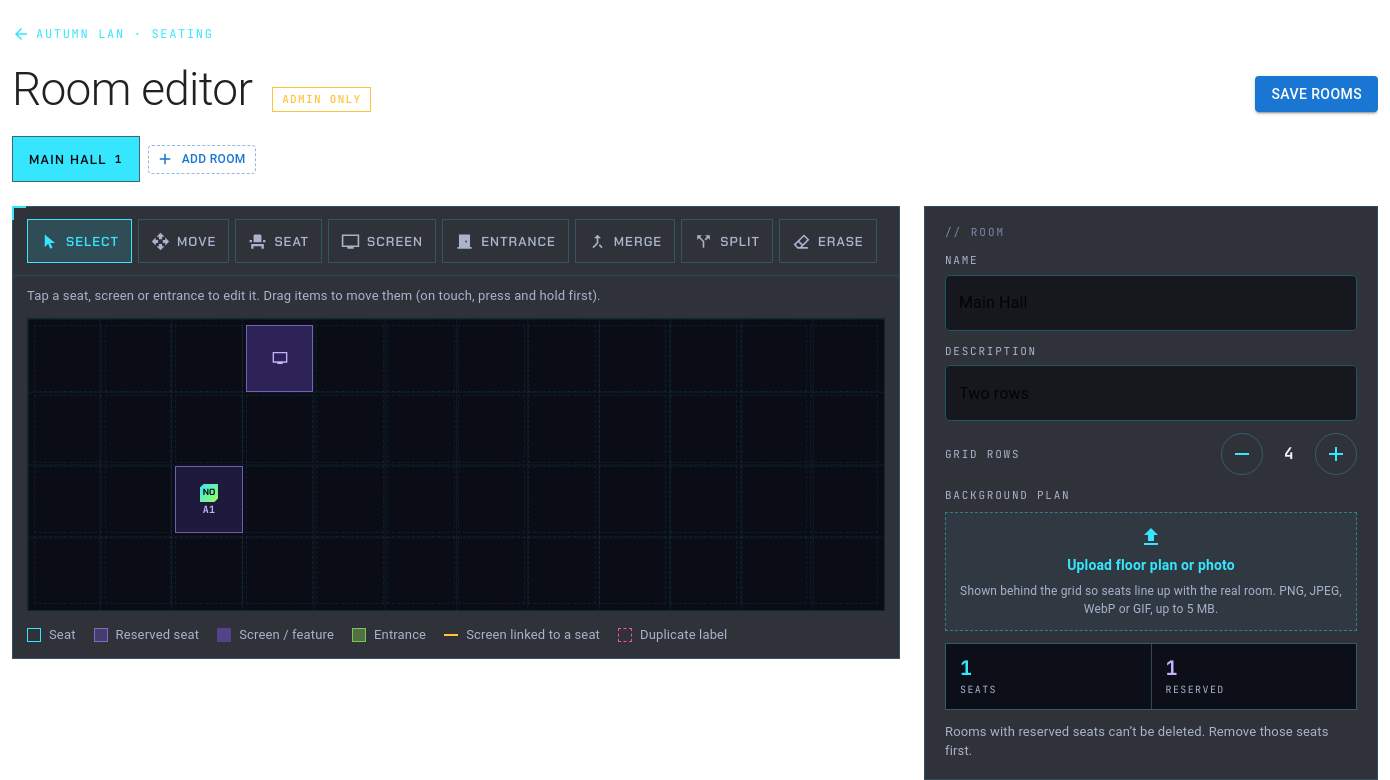
Test: RoomEditor › drops auto-labelled seats with the keyboard and saves the layout
Switch tool with the shortcut, move right and down, drop a seat.
Step 1. Press d in the cell named "Empty square, column 1, row 1", box top-left (34, 324), bottom-right (102, 392)
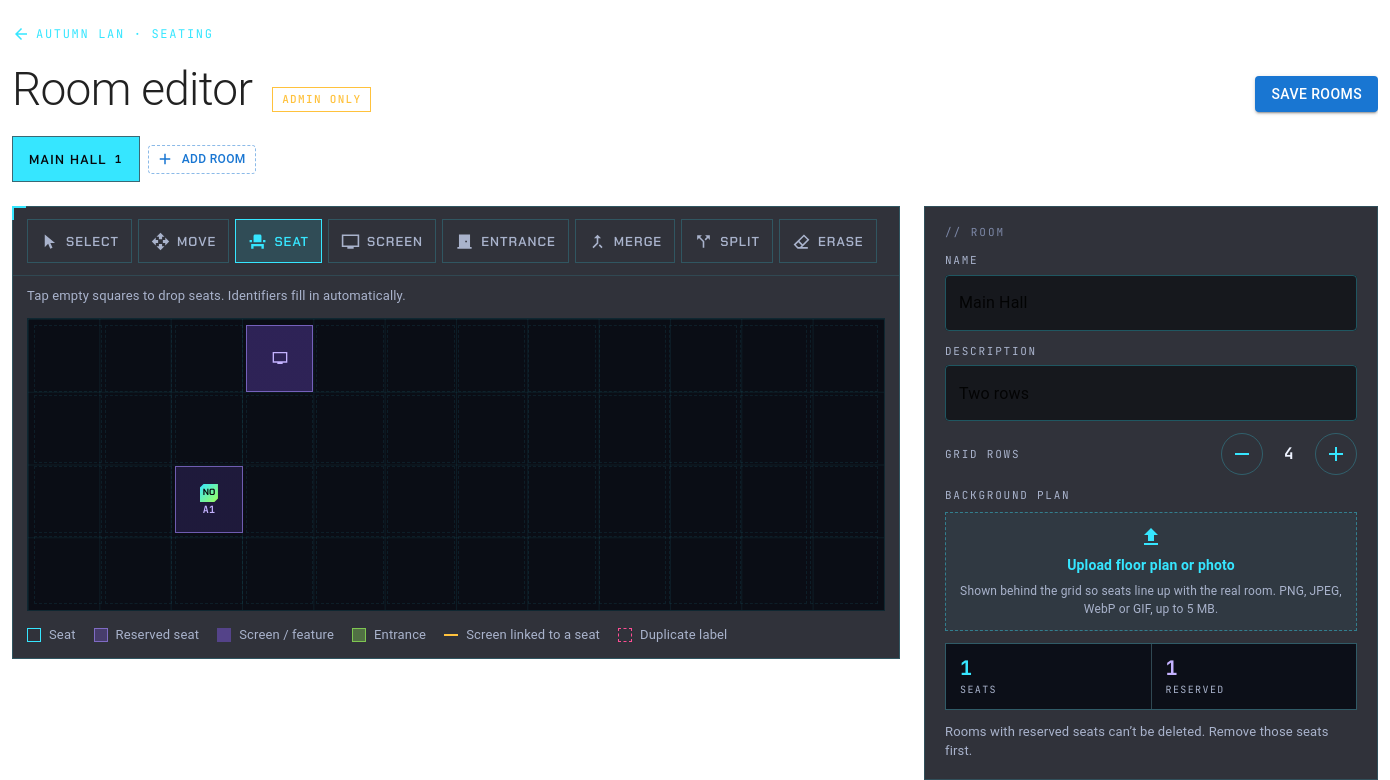
Expected: the button "Seat" is pressed, top-left (235, 219), bottom-right (322, 263)
Step 2. Press ArrowDown in the cell named "Empty square, column 1, row 1", box top-left (34, 324), bottom-right (102, 392)
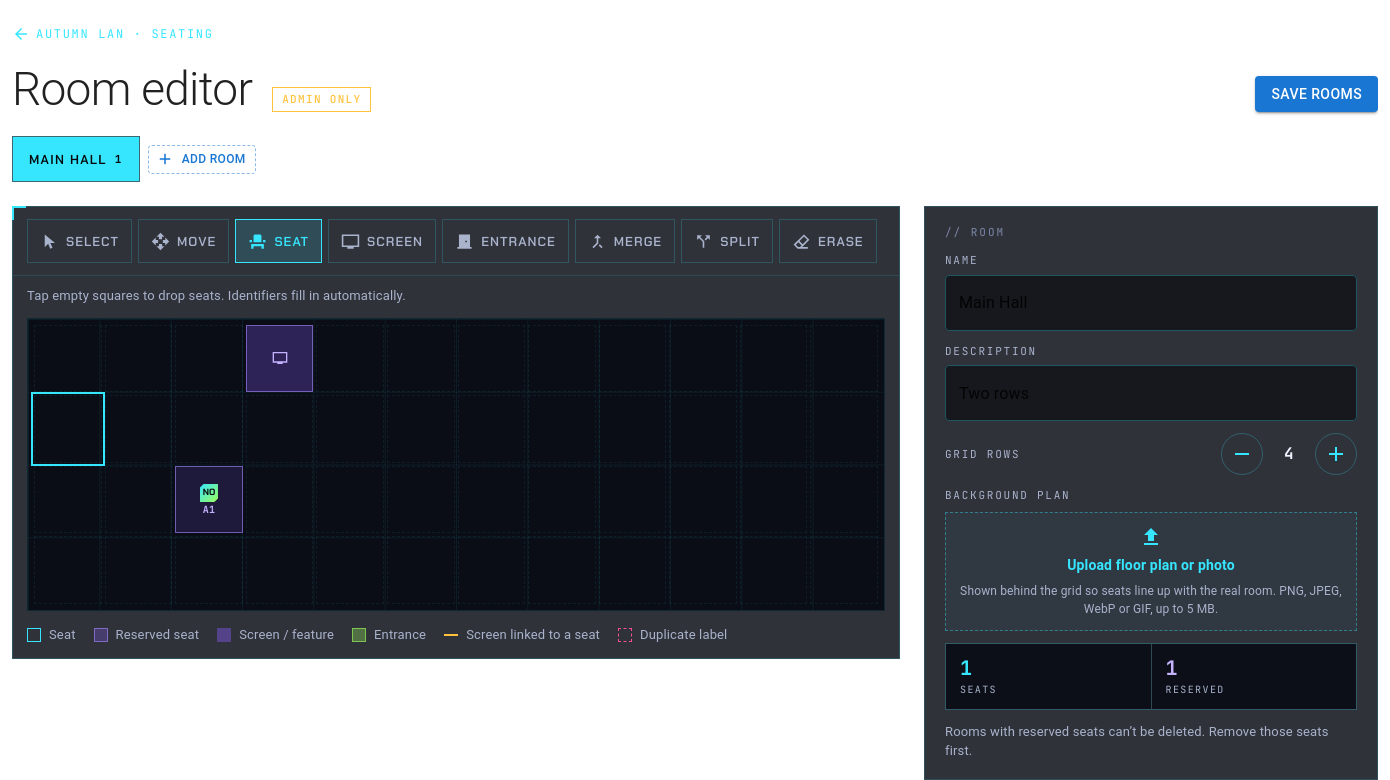
Step 3. Press Enter in the cell named "Empty square, column 1, row 2", box top-left (34, 395), bottom-right (102, 463)
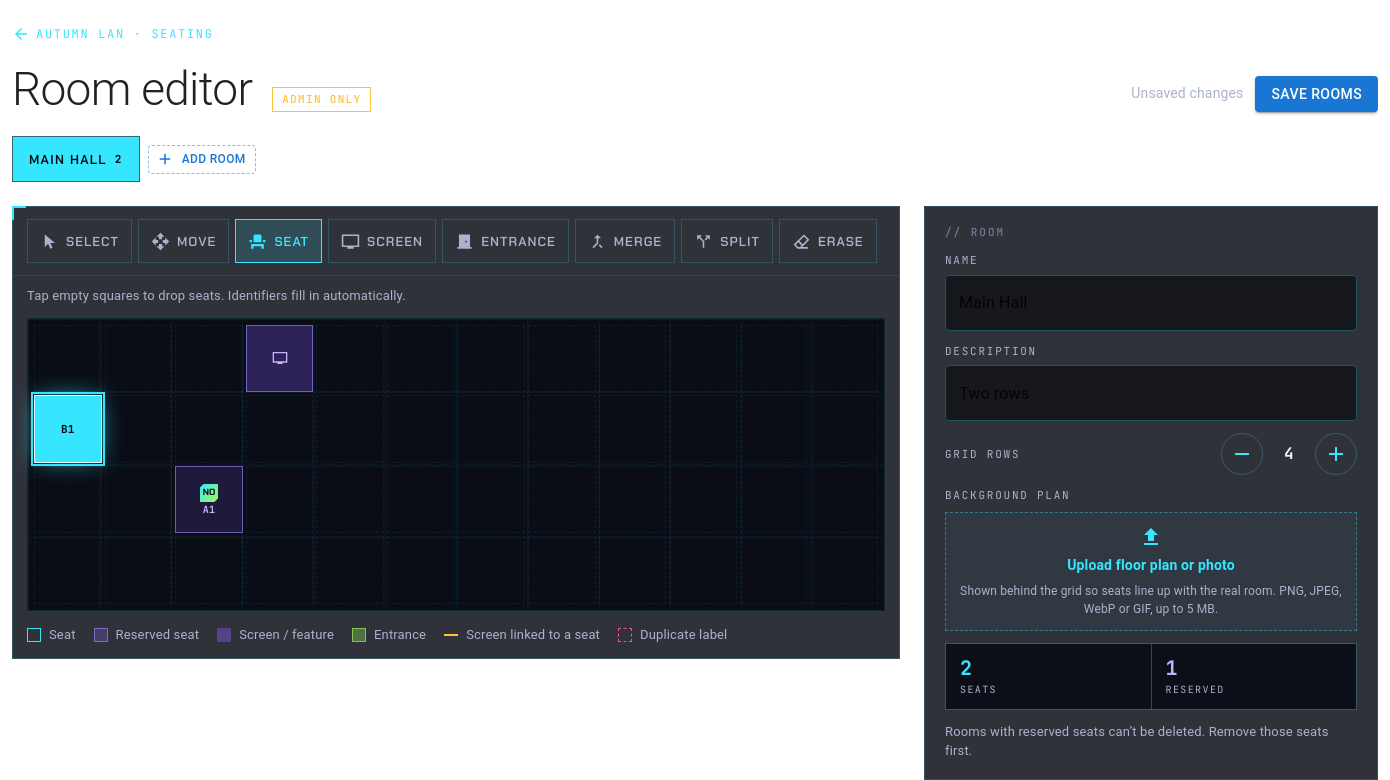
Expected: the text "Unsaved changes" is shown, top-left (1131, 83), bottom-right (1244, 104)
Step 4. Click the button "Save rooms" → [1317, 94], box top-left (1256, 76), bottom-right (1378, 112)
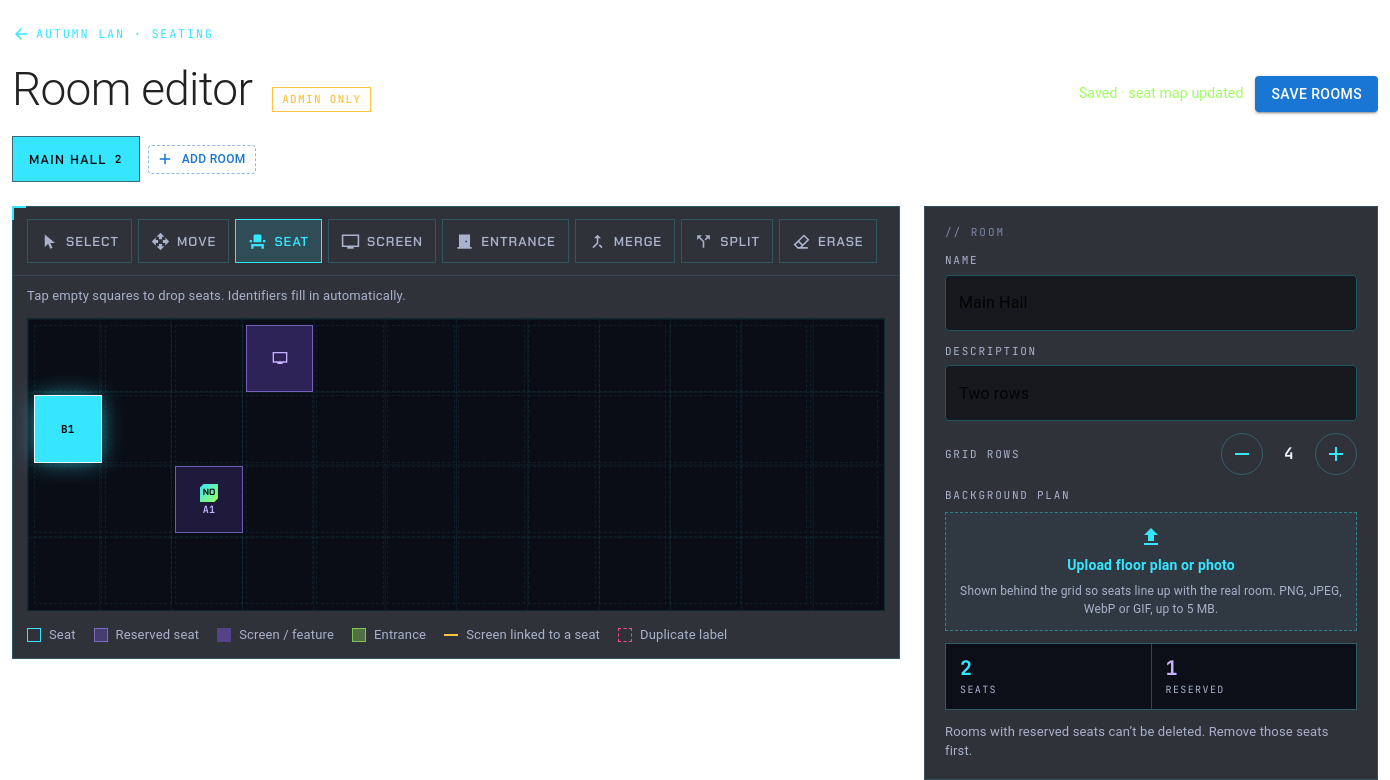
Expected: the text "Saved · seat map updated" is shown, top-left (1079, 83), bottom-right (1244, 104)
